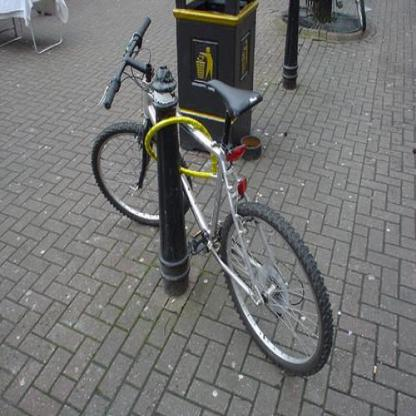bicycle: (92, 16, 335, 380), (305, 0, 376, 35)
